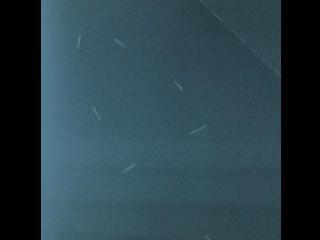crack: (200, 0, 280, 77)
scratch: (71, 30, 86, 55), (169, 75, 187, 95), (88, 102, 105, 122), (119, 160, 138, 175), (188, 122, 208, 136), (113, 37, 127, 48), (201, 231, 213, 240)
